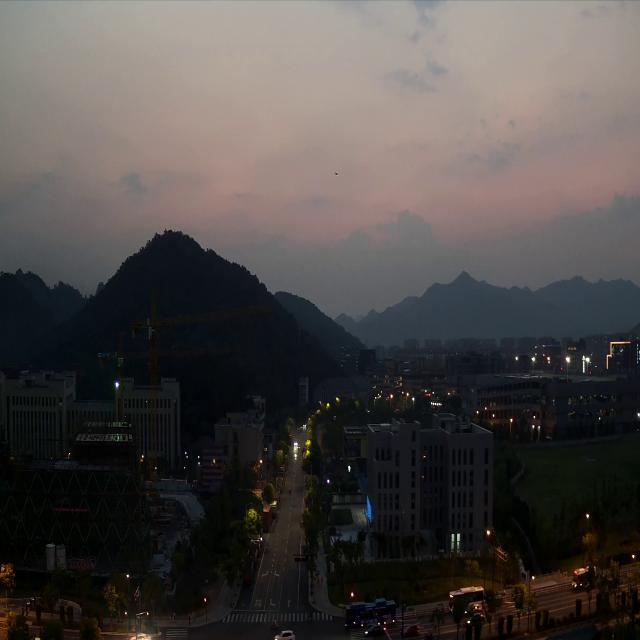UAV: (334, 171, 338, 176)
